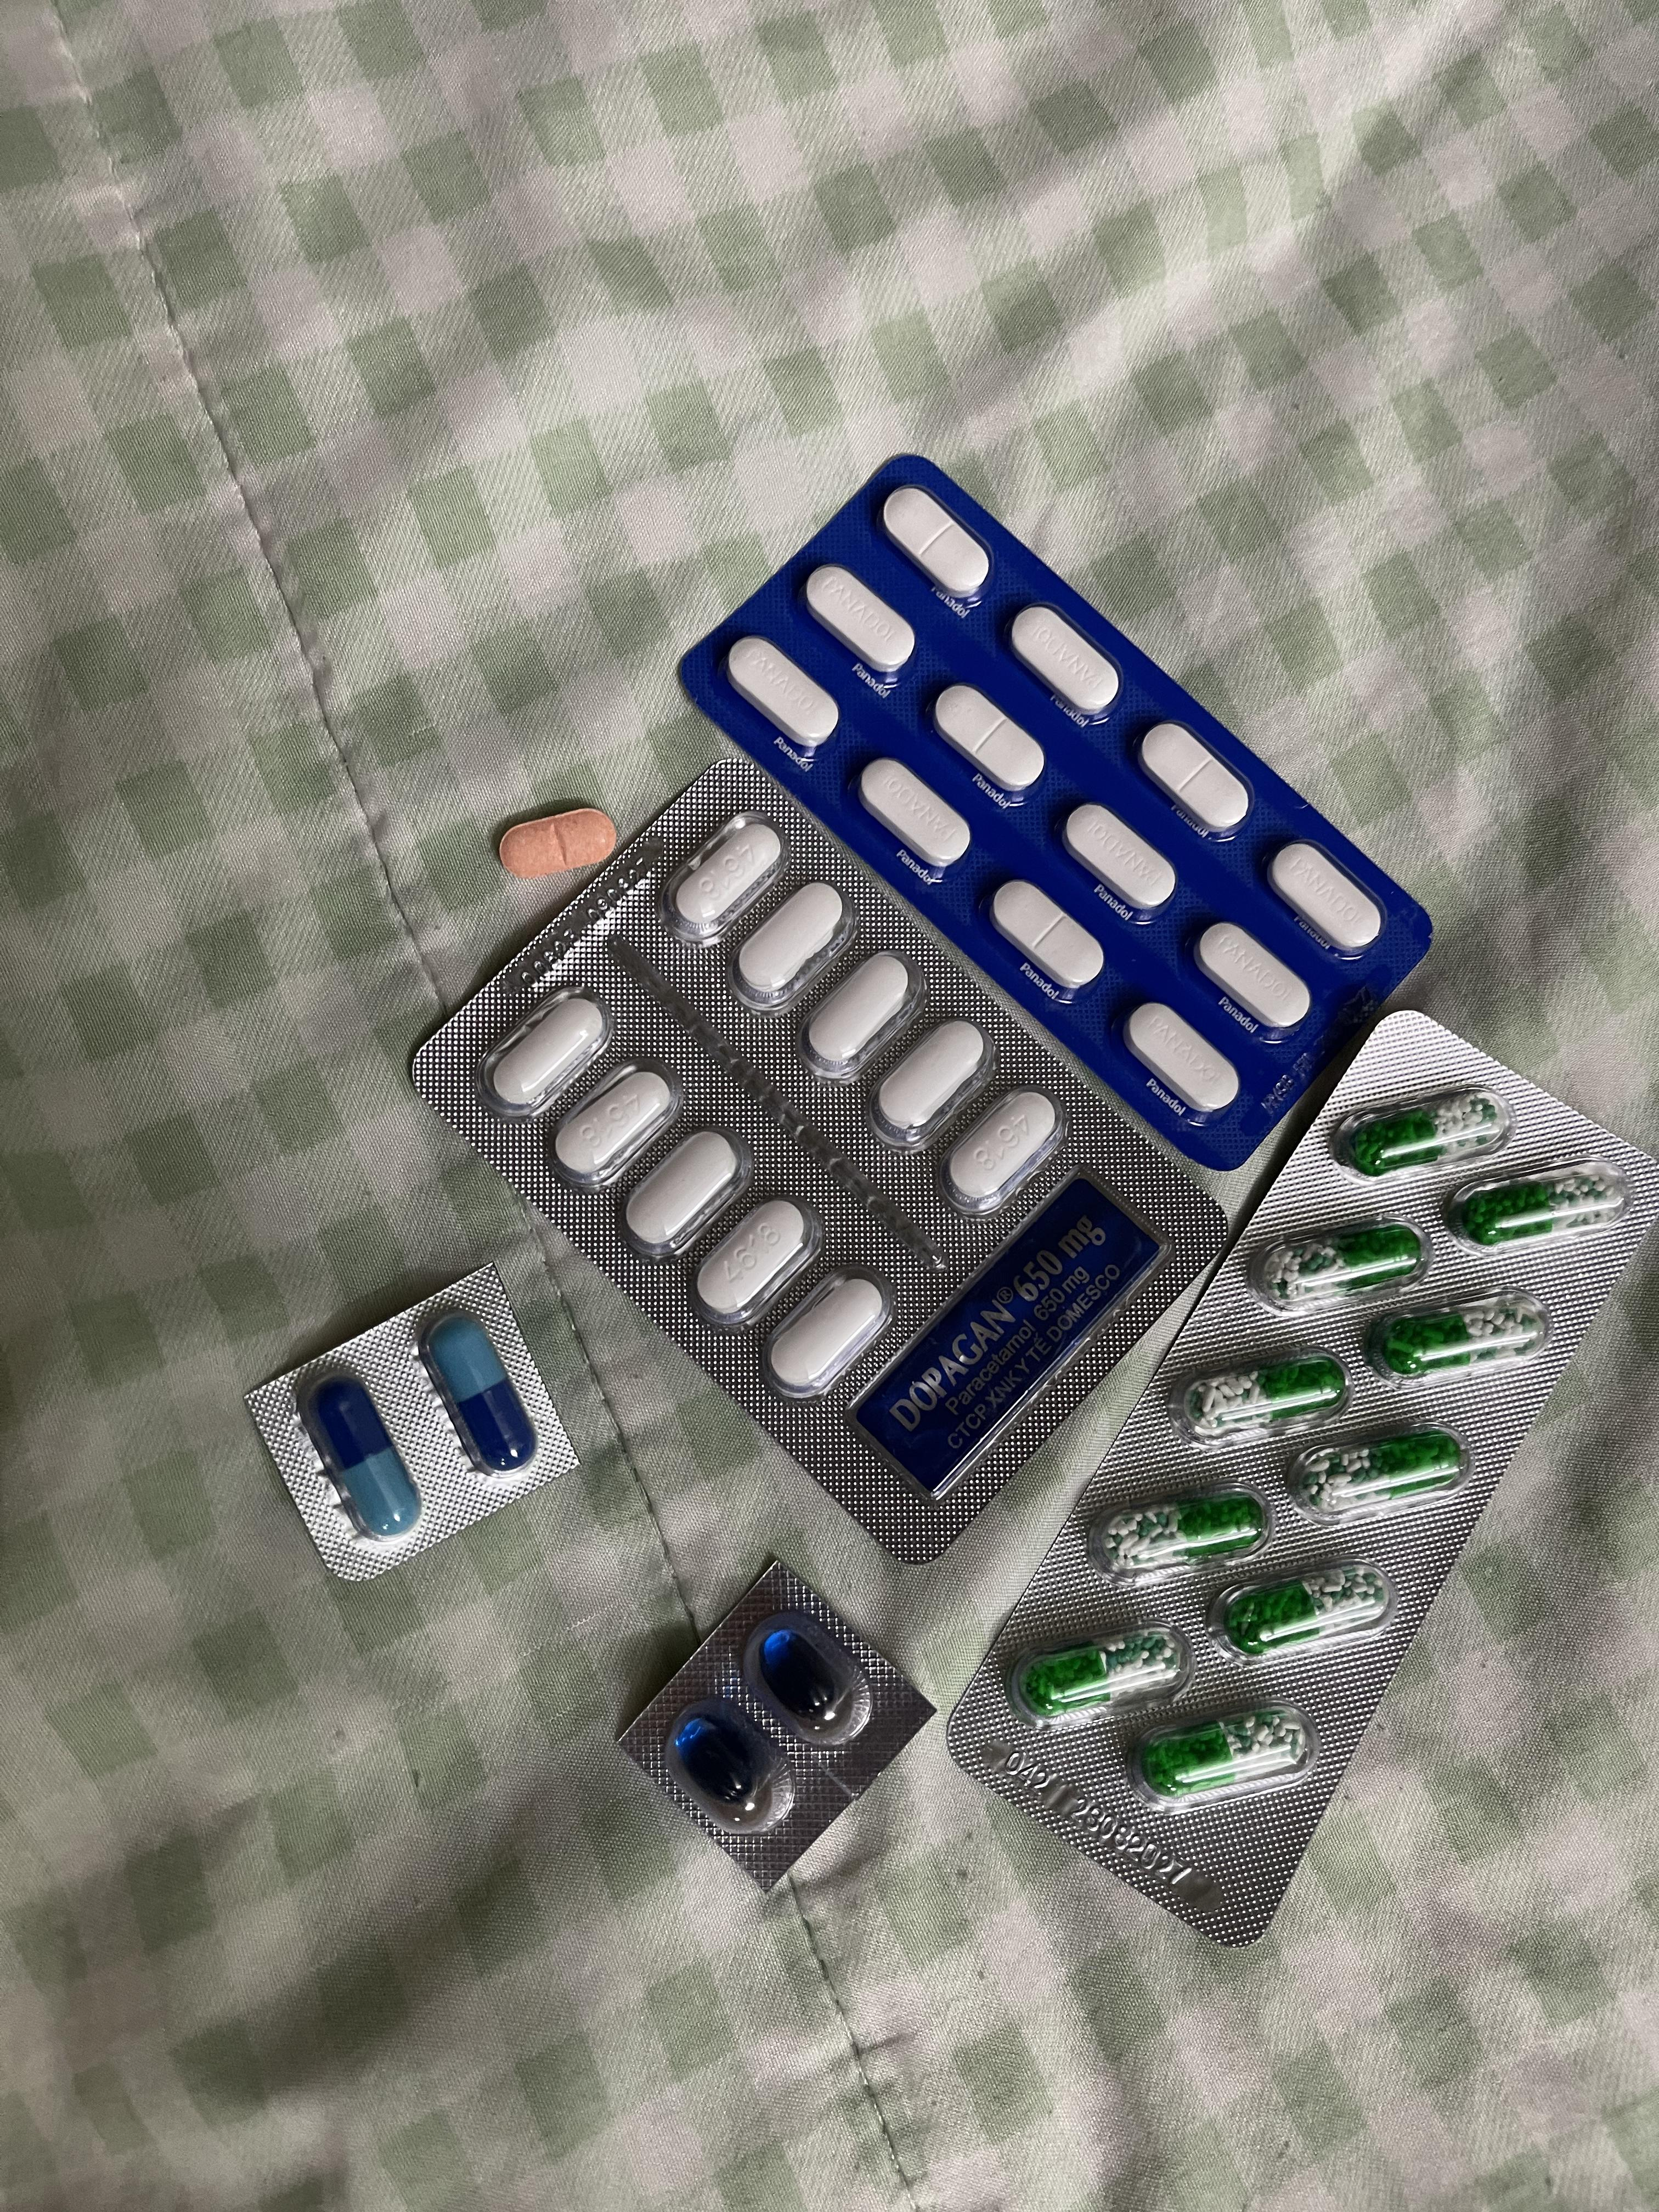Lincomyxin_500mg: (673, 1712, 767, 1810), (760, 1627, 850, 1721)
Loratadine_10mg: (502, 808, 620, 881)
Paracetamol_350mg: (1265, 841, 1387, 956), (990, 880, 1107, 996), (1138, 721, 1255, 836), (1007, 604, 1122, 719), (1061, 803, 1176, 918), (725, 636, 836, 754), (805, 564, 918, 678), (857, 756, 969, 871), (1194, 923, 1309, 1033), (1124, 1001, 1239, 1111), (882, 486, 992, 601), (934, 683, 1044, 792)
Paracetamol_500mg: (617, 1116, 753, 1263), (941, 1090, 1072, 1216), (873, 1012, 997, 1143), (805, 951, 918, 1076), (770, 1271, 885, 1393), (734, 880, 843, 1005), (551, 1069, 674, 1177), (491, 991, 606, 1104), (695, 1198, 809, 1310), (674, 822, 782, 927)
Paracetamol_650mg: (1141, 1710, 1304, 1796), (1302, 1435, 1460, 1515), (1223, 1571, 1382, 1651), (1344, 1096, 1499, 1174), (1021, 1630, 1176, 1709), (1371, 1305, 1539, 1376), (1267, 1226, 1422, 1298), (1188, 1360, 1344, 1432), (1459, 1177, 1617, 1245), (1101, 1500, 1260, 1566)
pill: (415, 1306, 544, 1486), (295, 1364, 423, 1543)
